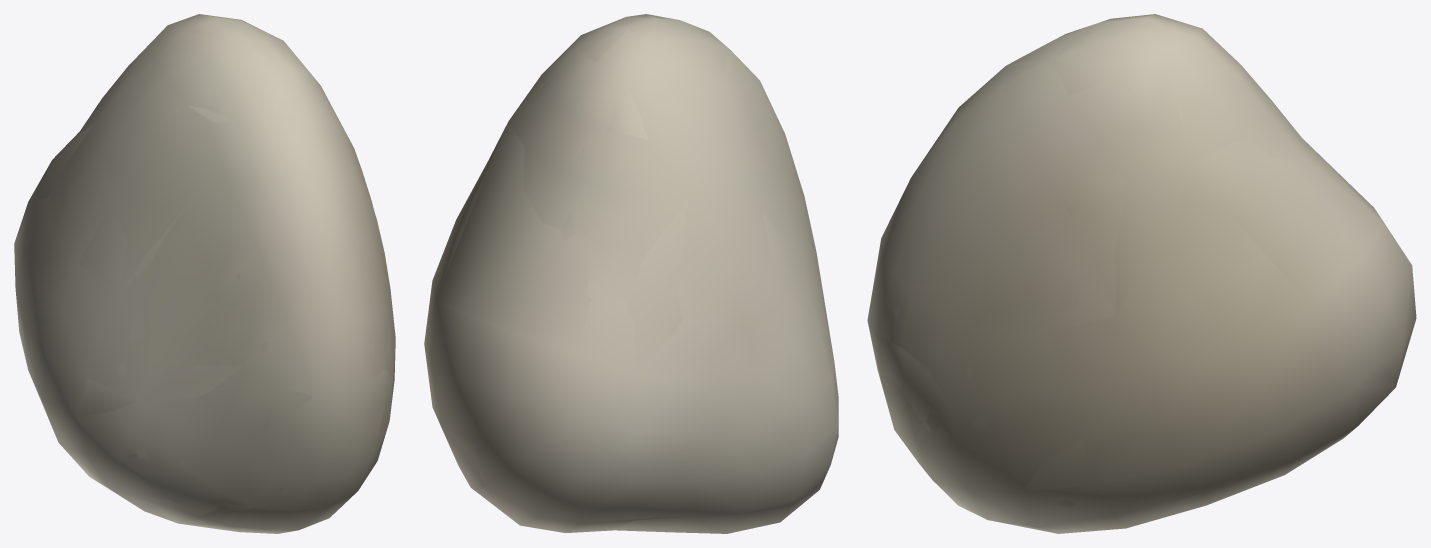
The model's file is R carpale tertium.fbx.
The picture shows the model from 3 angles, left to right: view 1: azimuth 30°, elevation 25°; view 2: azimuth 150°, elevation 25°; view 3: azimuth 270°, elevation 25°; orthographic projection. The views are drawn at different scales.
Parts seen in each view (by area): view 1: R carpale tertium, R carpale tertium low, R carpale tertium high; view 2: R carpale tertium, R carpale tertium low, R carpale tertium high; view 3: R carpale tertium, R carpale tertium low, R carpale tertium high.
Boxes of the visible parts, x1,y1,x2,y2 form: R carpale tertium: (14, 14, 395, 533); R carpale tertium low: (25, 14, 392, 526); R carpale tertium high: (39, 30, 393, 512); R carpale tertium: (424, 14, 838, 533); R carpale tertium low: (425, 14, 837, 532); R carpale tertium high: (489, 22, 828, 525); R carpale tertium: (867, 14, 1416, 533); R carpale tertium low: (867, 14, 1398, 528); R carpale tertium high: (893, 30, 1385, 507).
Bounding box in the file's own units: 0.2231 × 0.3042 × 0.3072.
Materials: 1 (1 with a texture image).
